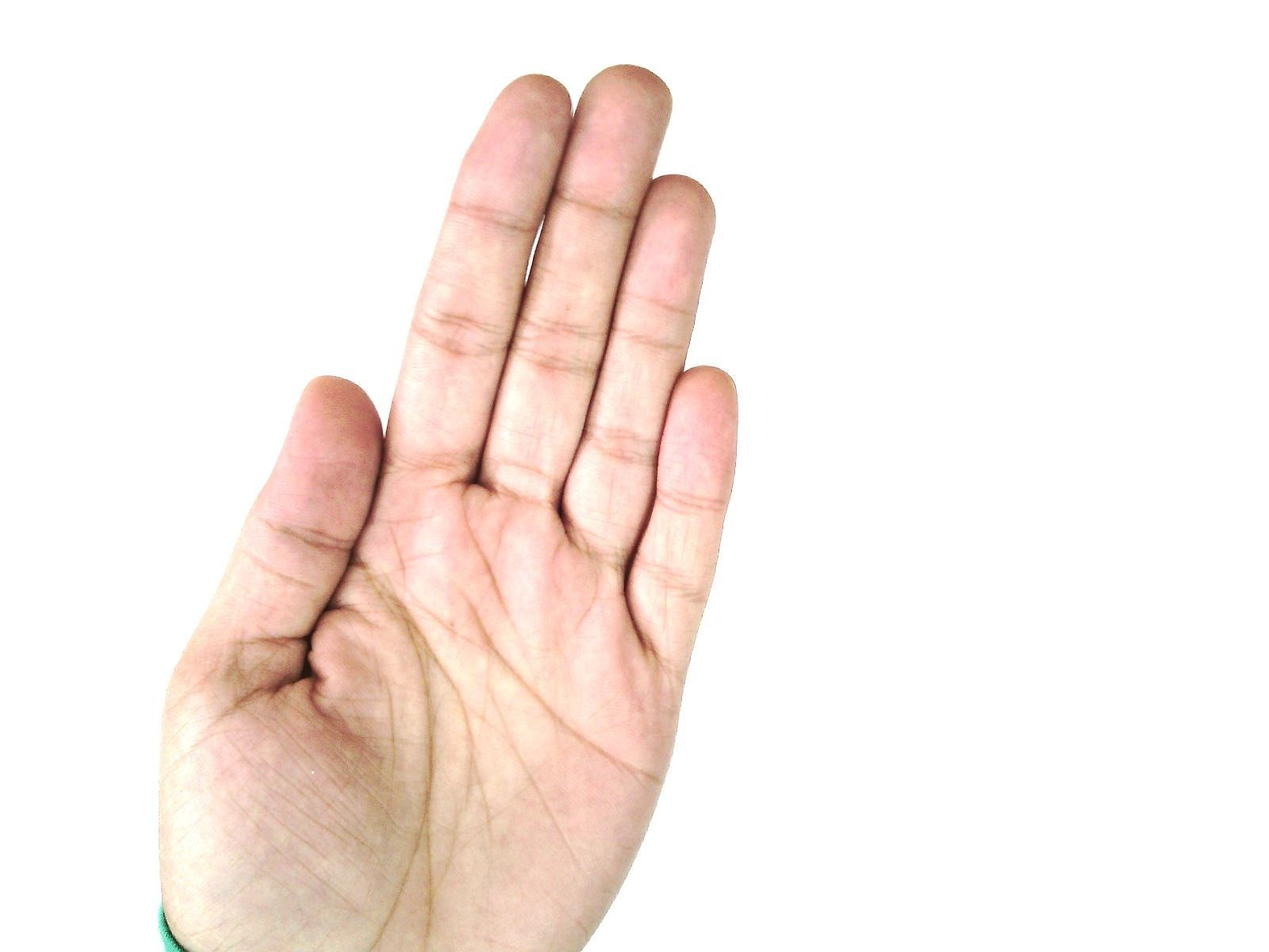open_palm: (155, 63, 743, 952)
